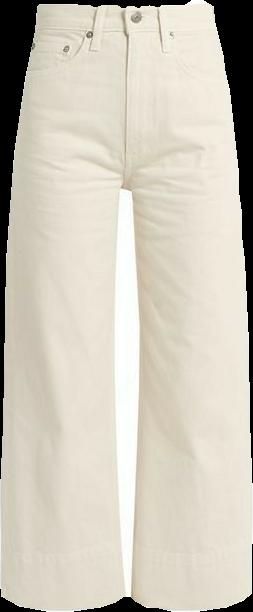Hemline: (0, 590, 125, 611), (128, 590, 252, 611)
Pantleg: (122, 0, 251, 611), (1, 5, 126, 610)
Waistline: (36, 0, 211, 13), (33, 25, 217, 35)
